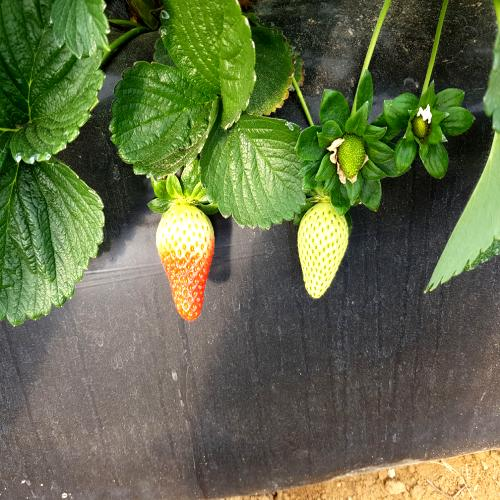partially-ripe: (155, 191, 218, 333)
